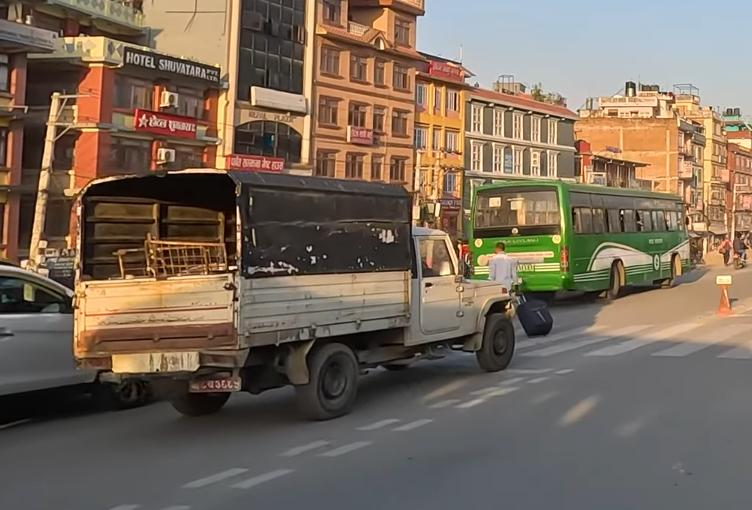bike: (722, 228, 752, 274)
bus: (461, 158, 704, 303)
car: (0, 256, 161, 433)
transport_vehicle: (69, 156, 536, 425)
